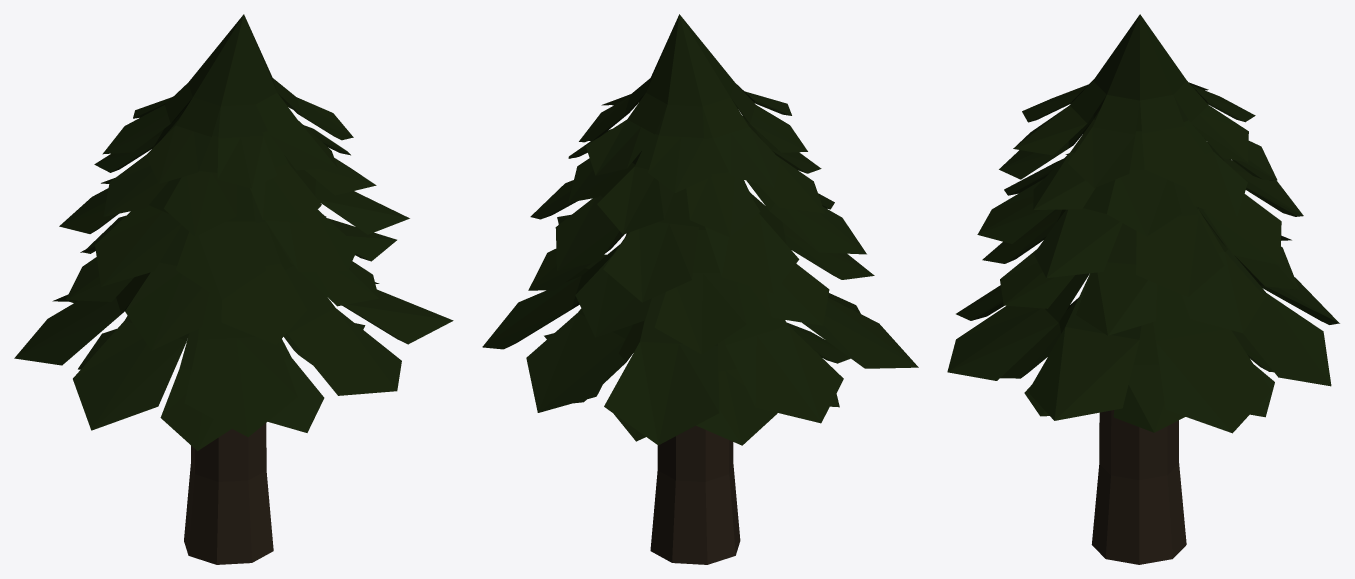
File: 소나무.fbx
3 views of the same model, side by side, from view 1: azimuth 30°, elevation 25°; view 2: azimuth 150°, elevation 25°; view 3: azimuth 270°, elevation 25° (orthographic). The views are drawn at different scales.
Visible parts, largest first — view 1: Object001; view 2: Object001; view 3: Object001.
Part boxes in pixels (x1,y1,x2,y2): Object001: [14, 14, 453, 564]; Object001: [482, 14, 918, 564]; Object001: [947, 14, 1339, 564].
Size of the model in its own units: 338 by 468 by 310.
